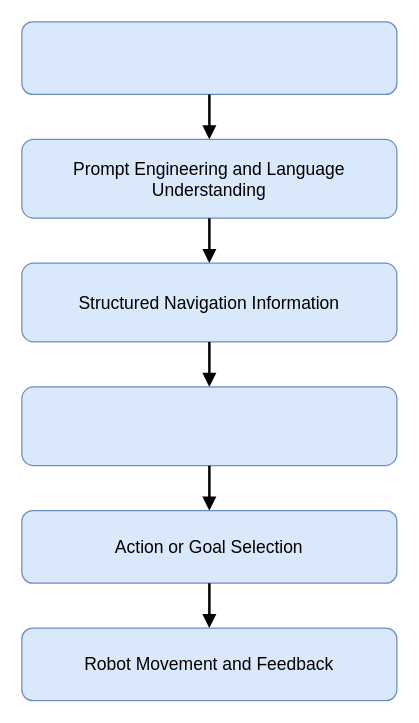
The diagram is 419 pixels wide and 723 high, and some of its shapes have lost their labels. The shapes that lost their labels are listed below. From the top down, each one's centre as x and y in pixels, then its label:
At (209,57): "Natural Language Instruction".
At (209,426): "Visual Grounding with Robot Camera".
